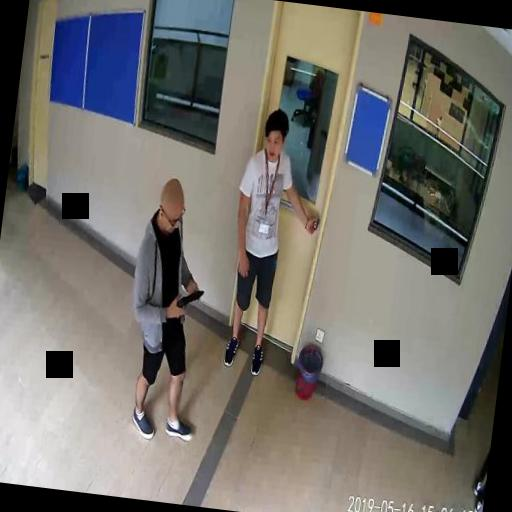Handgun: (174, 284, 202, 316)
